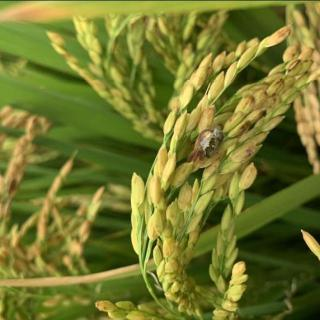Gosong-Palsu: (193, 124, 225, 160)
